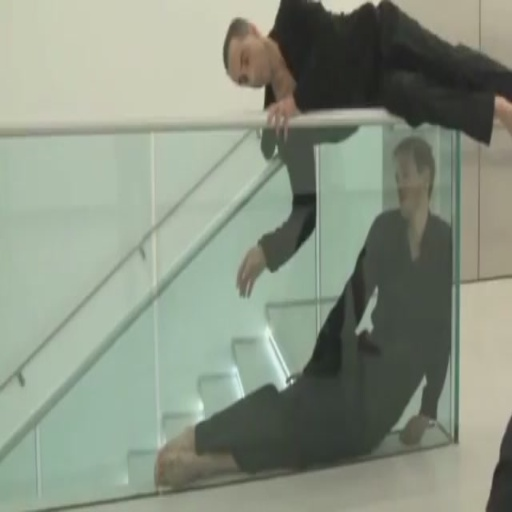hand: (259, 92, 297, 149), (237, 227, 269, 292), (397, 412, 429, 449)
